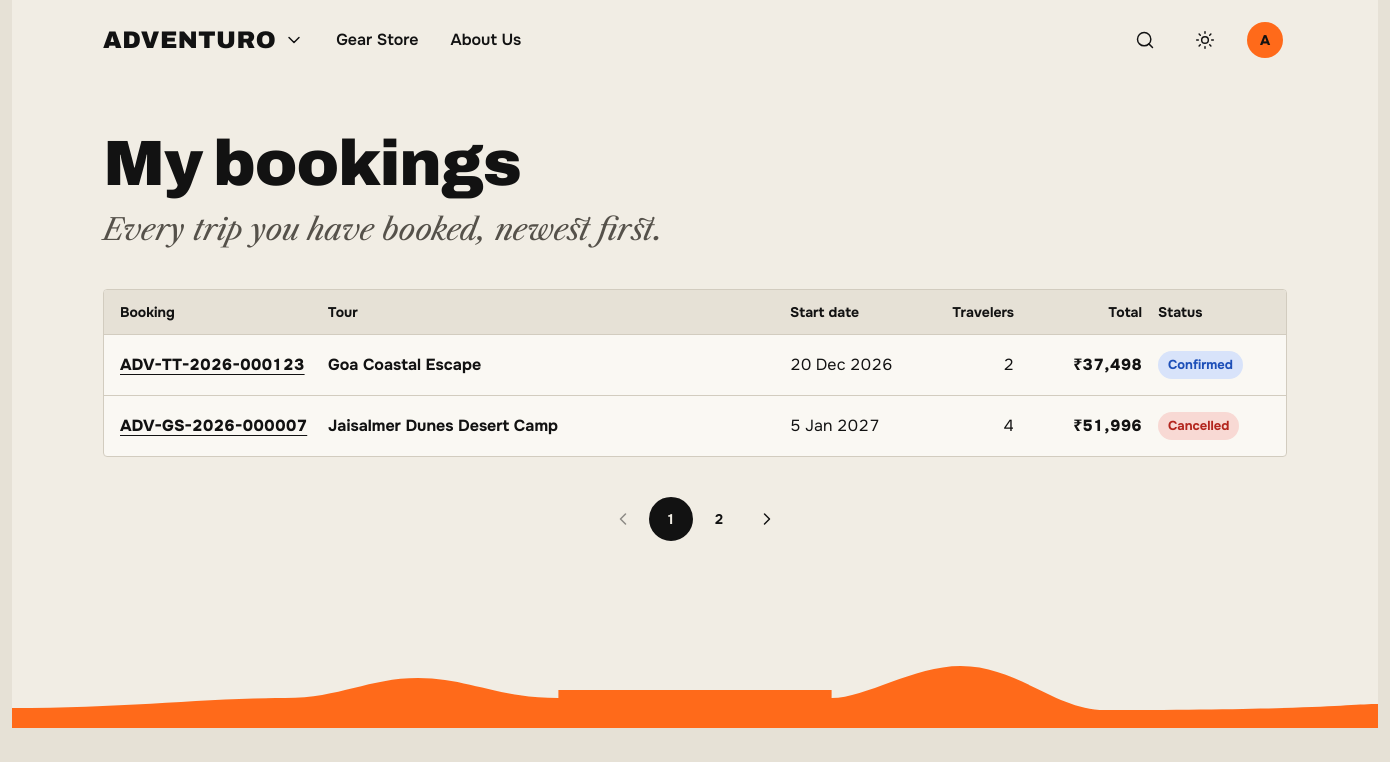
Test case: MyBookingsPage › turns the page through the URL
Check: the heading "My bookings" is shown, box [103,129,521,198]
Check: the link "ADV-TT-2026-000123" is shown, box [120,352,312,377]
Click the button named "Page 2" at (719, 519), box [697,497,741,541]
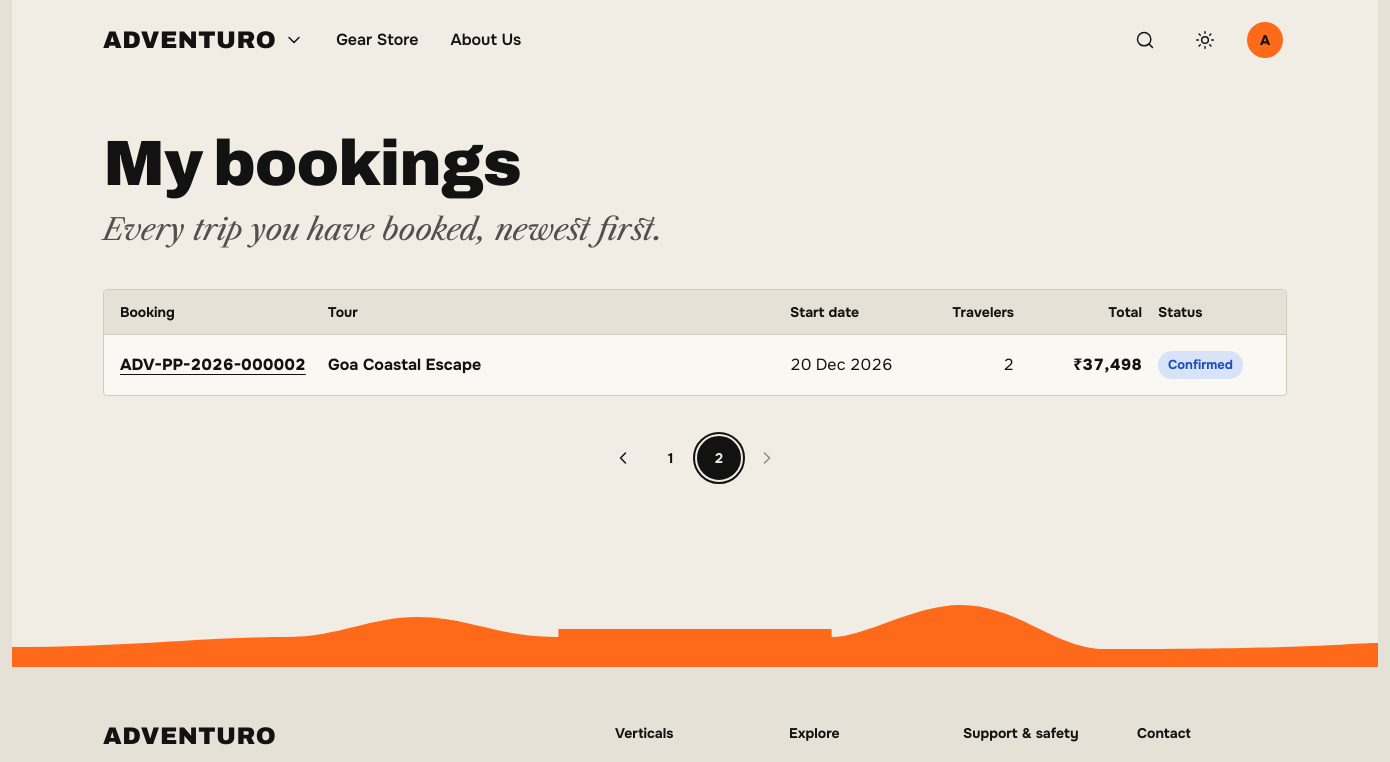
Check: the link "ADV-PP-2026-000002" is shown, box [120,352,312,377]
